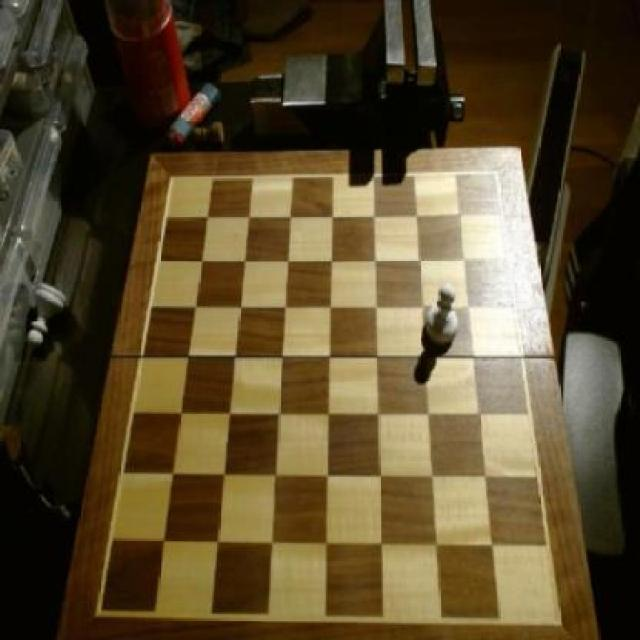white-knight: (422, 276, 462, 352)
